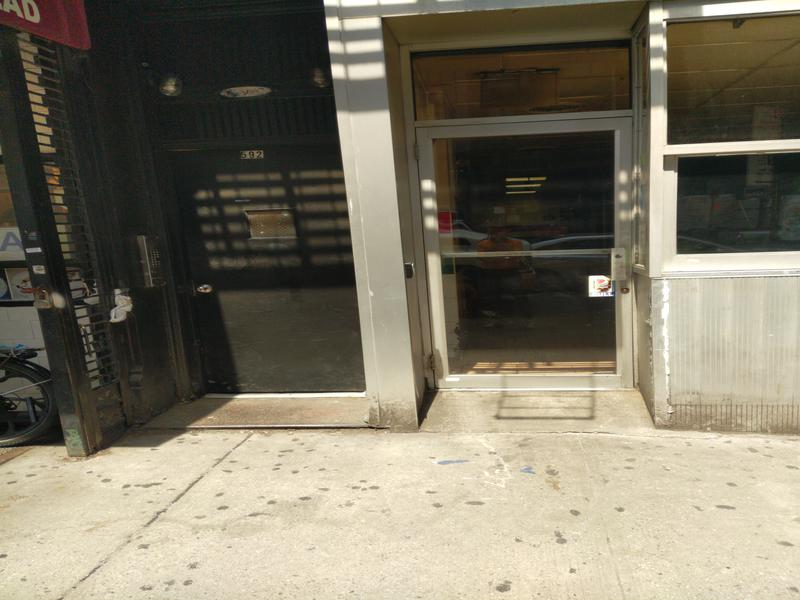door: (415, 115, 653, 399)
